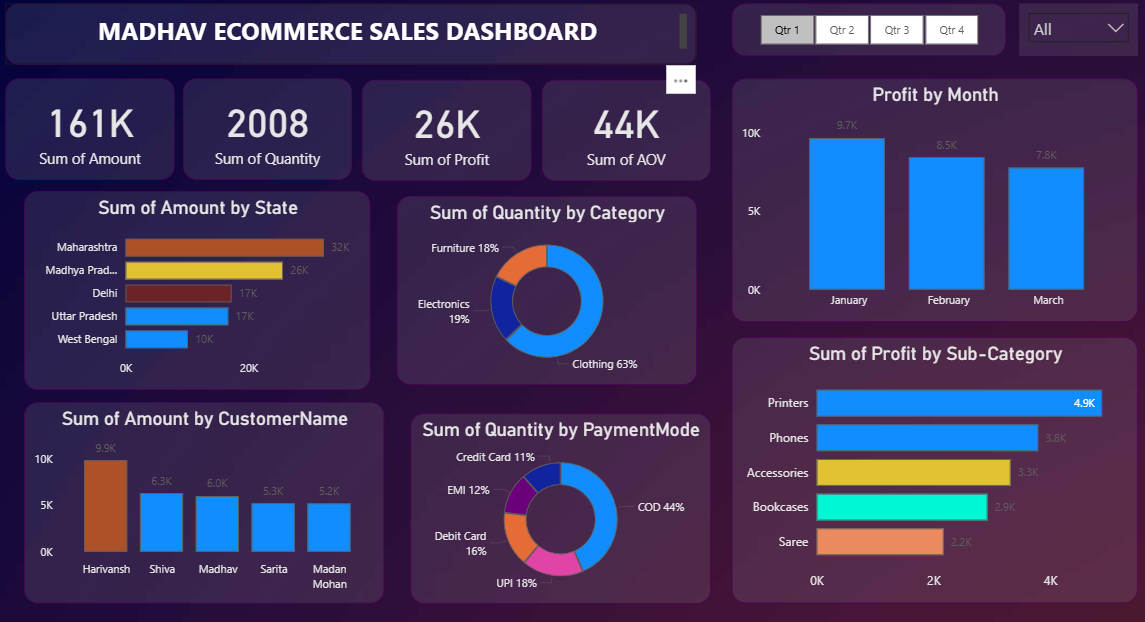

What the dashboard file says about the page in this screenshot:
{"tool":"powerbi","page":{"name":"Page 1","canvas":[1280,720],"ordinal":0},"visuals":[{"type":"columnChart","title":" Profit by Month","fields":{"Y":["Details.Profit"],"Category":["Orders (1).Order Date.Variation.Date Hierarchy.Month"]},"box":[816.5,101.5,446,267.6],"z":1},{"type":"barChart","fields":{"Y":["Details.Profit"],"Category":["Details.Sub-Category"]},"box":[816.5,385.6,446,292.3],"z":2},{"type":"donutChart","fields":{"Category":["Details.Category"],"Y":["Details.Quantity"]},"box":[448.7,230.5,329.3,207.2],"z":3},{"type":"donutChart","fields":{"Y":["Details.Quantity"],"Category":["Details.PaymentMode"]},"box":[463.8,469.3,329.3,208.6],"z":4},{"type":"card","fields":{"Values":["Details.Amount"]},"box":[19.2,101.5,185.2,111.1],"z":5},{"type":"card","fields":{"Values":["Details.Quantity"]},"box":[214.1,101.5,185.2,111.1],"z":6},{"type":"card","fields":{"Values":["Details.Profit"]},"box":[410.3,102.9,186.6,111.1],"z":7},{"type":"card","fields":{"Values":["Details.AOV"]},"box":[607.9,102.9,185.2,111.1],"z":8},{"type":"barChart","fields":{"Category":["Orders (1).State"],"Y":["Details.Amount"]},"box":[39.8,225,380.1,218.2],"z":9},{"type":"columnChart","fields":{"Category":["Orders (1).CustomerName"],"Y":["Details.Amount"]},"box":[39.8,456.9,395.2,220.9],"z":10},{"type":"textbox","box":[19.2,19.2,758.8,67.2],"z":11},{"type":"slicer","fields":{"Values":["Orders (1).Order Date.Variation.Date Hierarchy.Quarter"]},"box":[816.5,19.2,300.5,57.6],"z":12},{"type":"slicer","fields":{"Values":["Orders (1).State"]},"box":[1132.1,19.2,130.4,57.6],"z":13}]}

Visuals, with their boxes on the page's 1280x720 design canvas (x1, y1, x2, y2). These are canvas units, not pixel positions in the 1145x622 screenshot, which may show the page scaled, cropped or inside an application window:
" Profit by Month" columnChart: locate(816, 102, 1262, 369)
barChart - Details.Profit x Details.Sub-Category: locate(816, 386, 1262, 678)
donutChart - Details.Category x Details.Quantity: locate(449, 230, 778, 438)
donutChart - Details.Quantity x Details.PaymentMode: locate(464, 469, 793, 678)
card - Details.Amount: locate(19, 102, 204, 213)
card - Details.Quantity: locate(214, 102, 399, 213)
card - Details.Profit: locate(410, 103, 597, 214)
card - Details.AOV: locate(608, 103, 793, 214)
barChart - Orders (1).State x Details.Amount: locate(40, 225, 420, 443)
columnChart - Orders (1).CustomerName x Details.Amount: locate(40, 457, 435, 678)
textbox: locate(19, 19, 778, 86)
slicer - Orders (1).Order Date.Variation.Date Hierarchy.Quarter: locate(816, 19, 1117, 77)
slicer - Orders (1).State: locate(1132, 19, 1262, 77)
